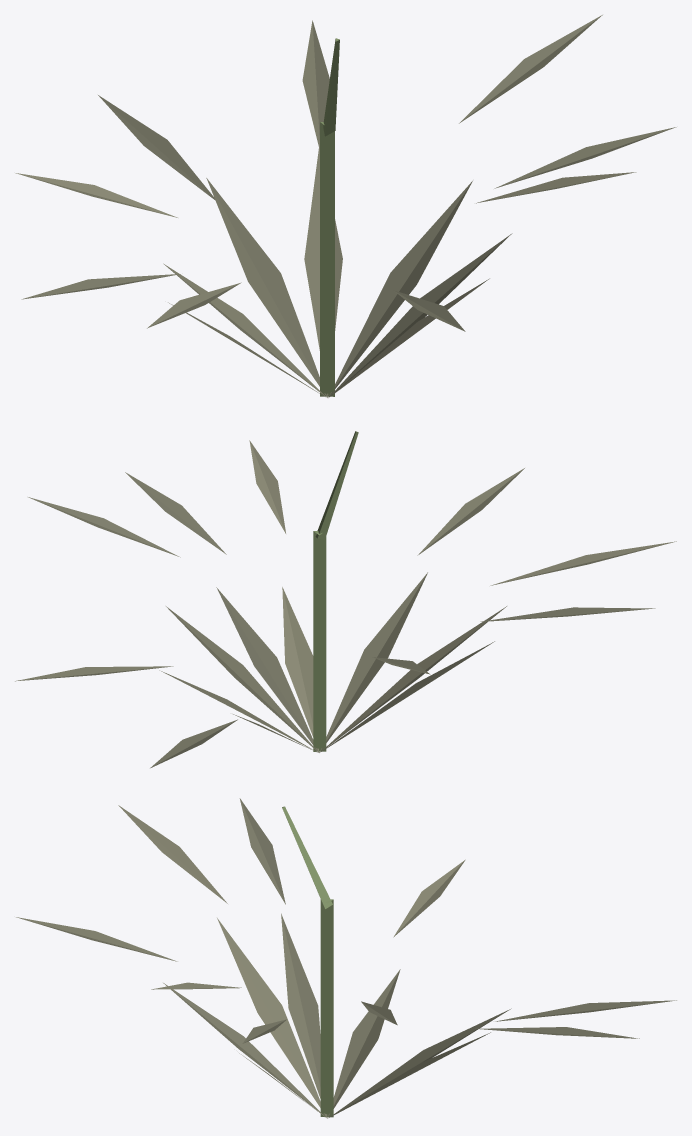
File: hua.lan@subadult__winter.glb
3 views of the same model, one above another, from view 1: azimuth 30°, elevation 25°; view 2: azimuth 150°, elevation 25°; view 3: azimuth 270°, elevation 25° (orthographic). The views are drawn at different scales.
Visible parts, largest first — view 1: hua.lan@subadult__winter; view 2: hua.lan@subadult__winter; view 3: hua.lan@subadult__winter.
Boxes of the visible parts, box(x1,y1,x2,y2) form: hua.lan@subadult__winter: box(15, 15, 676, 397); hua.lan@subadult__winter: box(15, 431, 676, 768); hua.lan@subadult__winter: box(16, 798, 676, 1118).
Size of the model in its own units: 0.7407 by 0.3985 by 0.7861.
